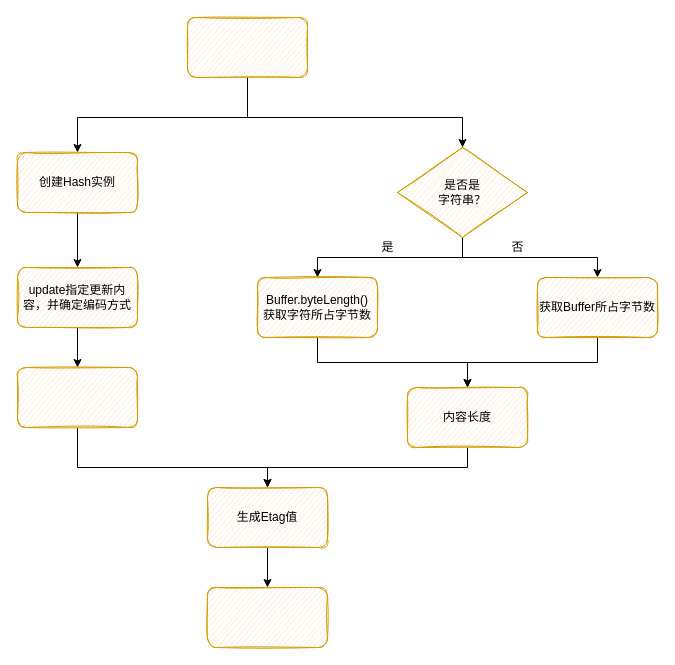
This 675x665 diagram has some shape labels left out. The centre of each missing label's shape, as x and y in pixels:
开始: point 247,47
生成摘要: point 77,397
结束: point 267,617
